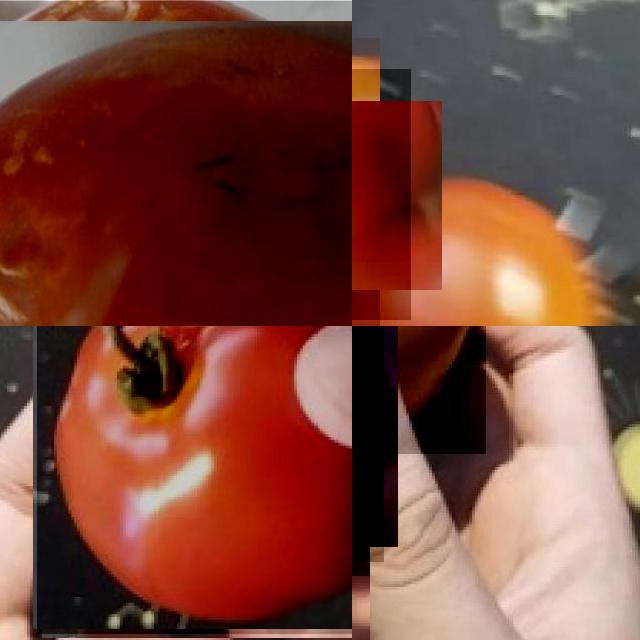1: (0, 1, 352, 326)
Fresh Tomato: (37, 326, 352, 633), (352, 159, 636, 326), (352, 69, 411, 320)
Rotten Tomato: (370, 326, 485, 454)
